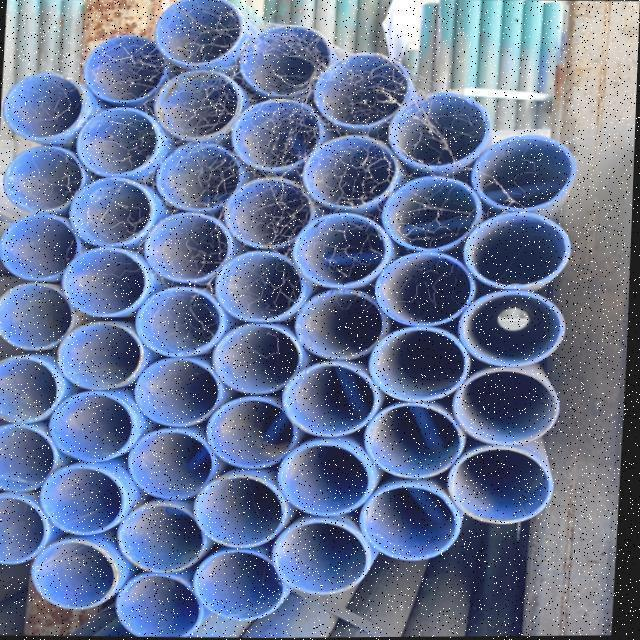pipe: (449, 439, 556, 523), (455, 364, 565, 445), (391, 83, 491, 167), (470, 209, 574, 286), (367, 401, 471, 477), (365, 484, 469, 560), (477, 132, 577, 211), (281, 515, 380, 593), (199, 543, 296, 622), (302, 130, 402, 206), (467, 291, 571, 364), (370, 326, 472, 400), (286, 358, 384, 435), (195, 473, 294, 549), (284, 436, 378, 514), (295, 210, 394, 284), (313, 50, 410, 125), (375, 252, 476, 324), (242, 21, 334, 100), (385, 175, 480, 250), (122, 499, 214, 573), (237, 99, 330, 171), (212, 397, 304, 469), (215, 322, 305, 394), (51, 389, 142, 460), (228, 178, 320, 248), (301, 289, 391, 360), (159, 68, 246, 141), (134, 427, 221, 500), (144, 209, 234, 278), (223, 250, 310, 321), (142, 284, 229, 355), (140, 356, 228, 426), (60, 318, 147, 388), (64, 250, 153, 318), (46, 463, 130, 535), (155, 139, 242, 208), (124, 569, 213, 635), (73, 176, 158, 245), (82, 34, 168, 102), (4, 143, 86, 213), (79, 105, 162, 174), (155, 0, 246, 62), (39, 539, 120, 608), (2, 69, 84, 136), (2, 210, 83, 276), (0, 281, 74, 348), (0, 351, 62, 420), (0, 421, 59, 492), (0, 494, 50, 563)
